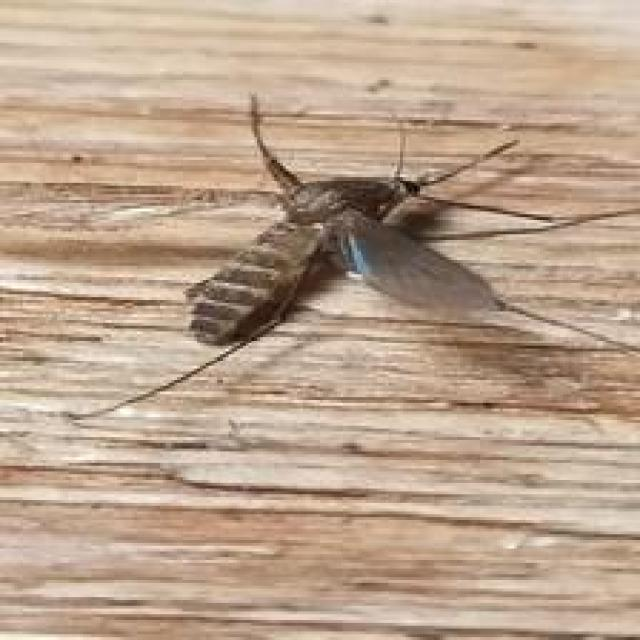Culex: (65, 92, 640, 424)
